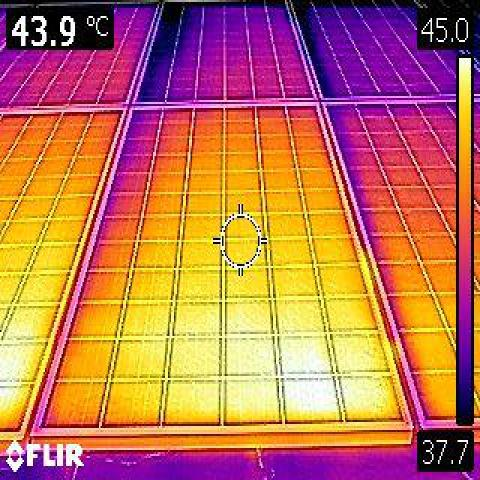fault: (274, 328, 336, 418), (0, 326, 41, 420)
